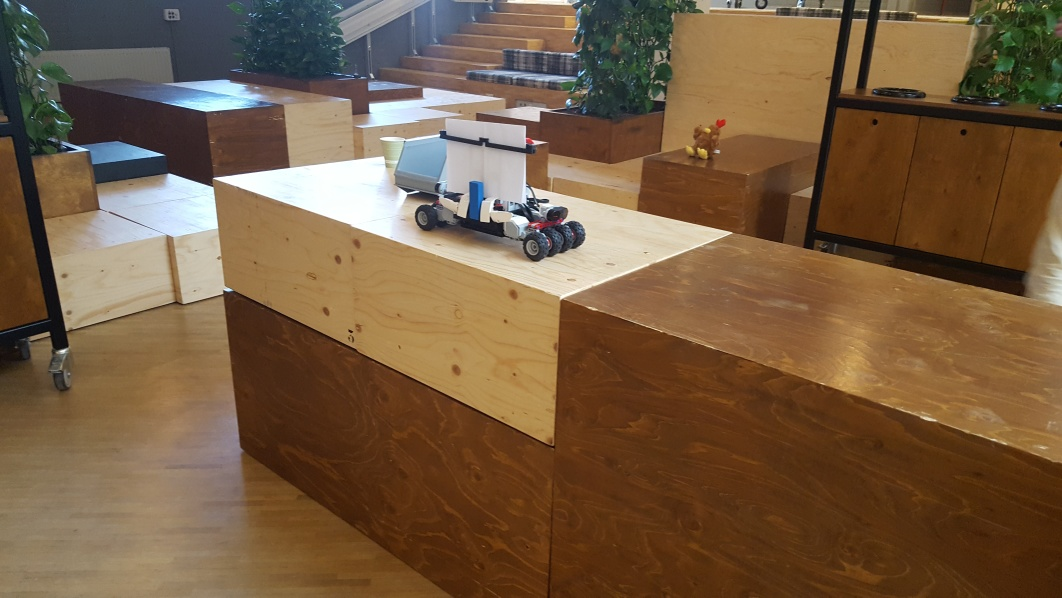car: (415, 116, 587, 261)
chicken: (686, 119, 727, 159)
cup: (381, 134, 404, 172)
tray: (392, 135, 447, 196)
